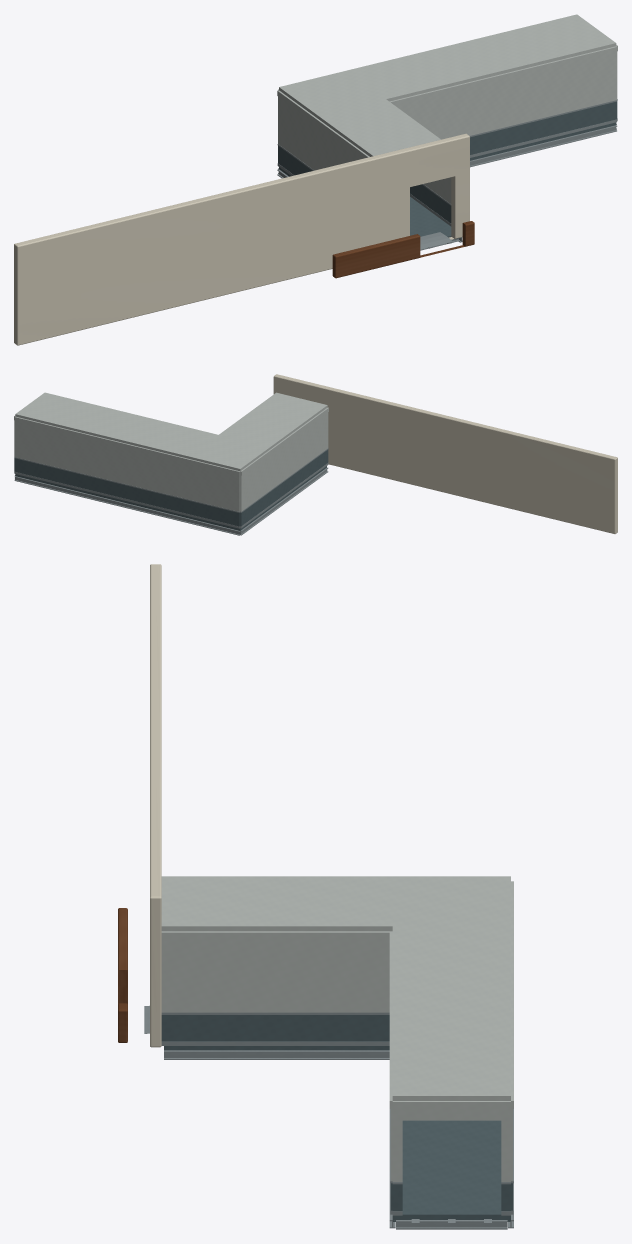
The model's file is HORIZON_SERVICE_RECEIVER_r001.glb.
3 views of the same model, one above another, from view 1: azimuth 30°, elevation 25°; view 2: azimuth 150°, elevation 25°; view 3: azimuth 270°, elevation 25° (orthographic). The views are drawn at different scales.
Visible parts, largest first — view 1: HRS_SUCCESSOR_D12_directory_01__enclosure_1, HRS_BATCH_001, HRS_BATCH_000, HRS_BATCH_002, HRS_SUCCESSOR_D12_directory_01__dado-1_0; view 2: HRS_SUCCESSOR_D12_directory_01__enclosure_1, HRS_BATCH_001, HRS_BATCH_000, HRS_BATCH_002; view 3: HRS_BATCH_001, HRS_BATCH_000, HRS_BATCH_002, HRS_SUCCESSOR_D12_directory_01__enclosure_1, HRS_SUCCESSOR_D12_directory_01__dado-1_0.
Boxes of the visible parts, box(x1,y1,x2,y2) form: HRS_SUCCESSOR_D12_directory_01__enclosure_1: box(14, 133, 469, 345); HRS_BATCH_001: box(277, 14, 617, 203); HRS_BATCH_000: box(278, 101, 617, 240); HRS_BATCH_002: box(277, 99, 617, 250); HRS_SUCCESSOR_D12_directory_01__dado-1_0: box(332, 221, 474, 278); HRS_SUCCESSOR_D12_directory_01__enclosure_1: box(273, 374, 617, 533); HRS_BATCH_001: box(14, 392, 328, 511); HRS_BATCH_000: box(14, 449, 328, 530); HRS_BATCH_002: box(14, 448, 328, 535); HRS_BATCH_001: box(161, 876, 513, 1181); HRS_BATCH_000: box(161, 1015, 512, 1221); HRS_BATCH_002: box(144, 1005, 513, 1229); HRS_SUCCESSOR_D12_directory_01__enclosure_1: box(150, 564, 161, 1047); HRS_SUCCESSOR_D12_directory_01__dado-1_0: box(118, 908, 127, 1042).
Bounding box in the file's own units: 36.3 × 5.51 × 12.04.
Materials: 6 (5 with a texture image).
